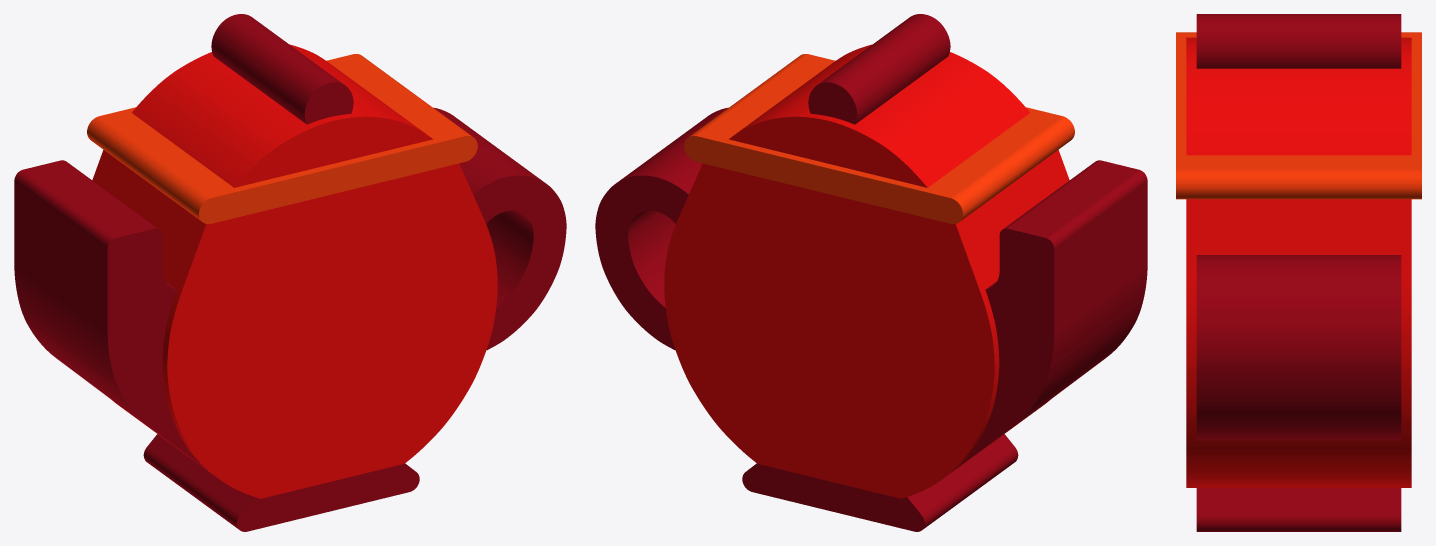
The model's file is U+1FAD6.obj.
3 views of the same model, side by side, from view 1: azimuth 30°, elevation 25°; view 2: azimuth 150°, elevation 25°; view 3: azimuth 270°, elevation 25° (orthographic). The views are drawn at different scales.
Visible parts, largest first — view 1: U+1FAD6_layer01_obj00, U+1FAD6_layer00_obj00, U+1FAD6_layer02_obj00; view 2: U+1FAD6_layer01_obj00, U+1FAD6_layer00_obj00, U+1FAD6_layer02_obj00; view 3: U+1FAD6_layer00_obj00, U+1FAD6_layer01_obj00, U+1FAD6_layer02_obj00.
Part boxes in pixels (bbox=[...]): U+1FAD6_layer01_obj00: bbox=[92, 44, 497, 498]; U+1FAD6_layer00_obj00: bbox=[14, 14, 566, 531]; U+1FAD6_layer02_obj00: bbox=[87, 54, 477, 223]; U+1FAD6_layer01_obj00: bbox=[664, 44, 1069, 498]; U+1FAD6_layer00_obj00: bbox=[595, 14, 1147, 531]; U+1FAD6_layer02_obj00: bbox=[684, 54, 1074, 223]; U+1FAD6_layer00_obj00: bbox=[1196, 14, 1401, 531]; U+1FAD6_layer01_obj00: bbox=[1186, 37, 1411, 487]; U+1FAD6_layer02_obj00: bbox=[1176, 32, 1421, 199].
Size of the model in its own units: 0.5678 by 0.5071 by 0.24.
